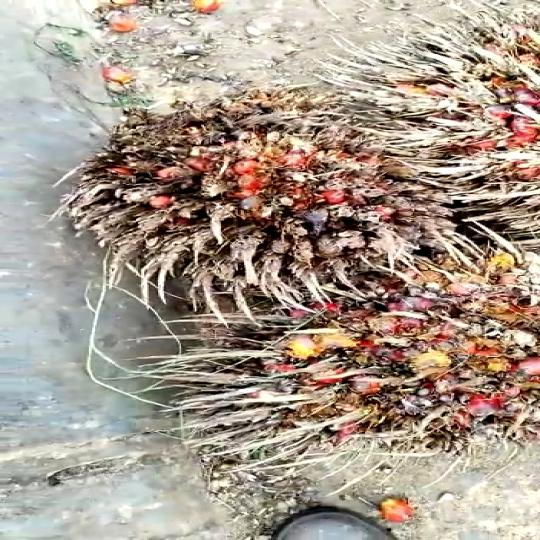terlalu masak: (56, 100, 430, 286), (148, 278, 536, 456)
